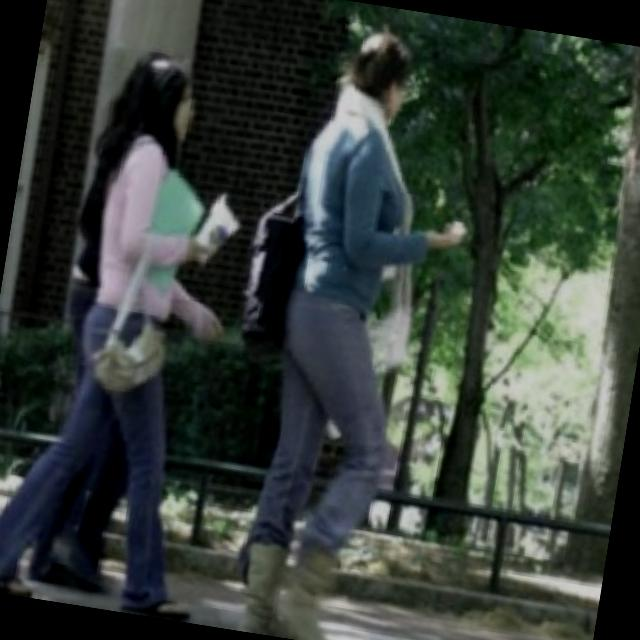Person: (222, 12, 497, 640), (0, 34, 269, 620)
